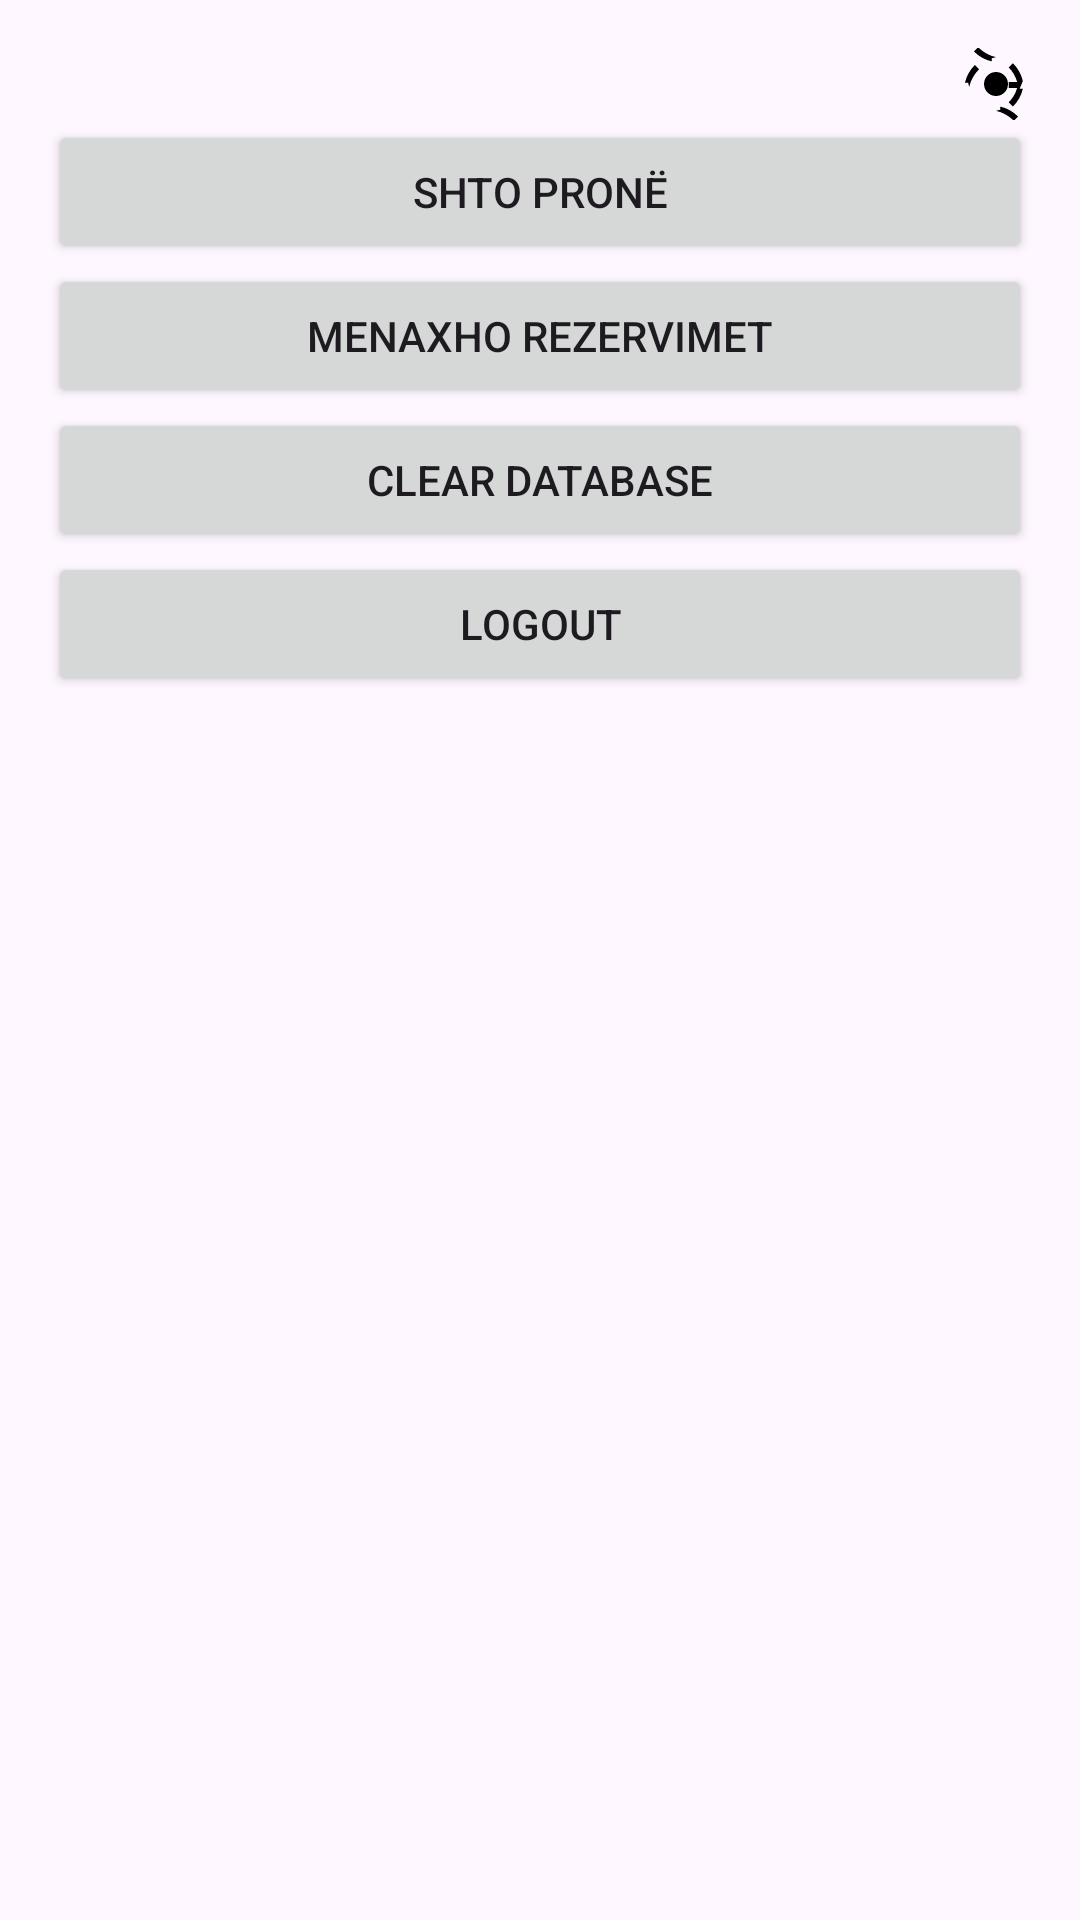

Where to tap for icons on this 1080x1920 app screen, as (x=x, y=y):
Preferencat: (x=994, y=84)
